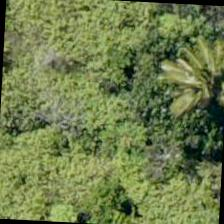Kelapa_Sawit: (166, 46, 223, 140)
